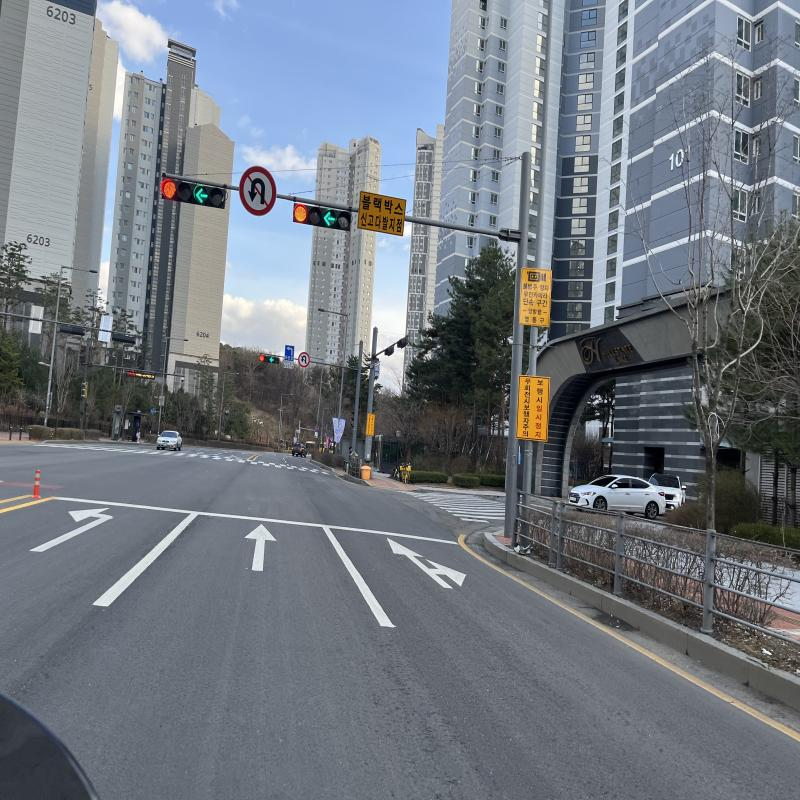left: (195, 185, 208, 206), (324, 211, 336, 227)
red: (161, 180, 178, 201), (294, 203, 307, 224)
